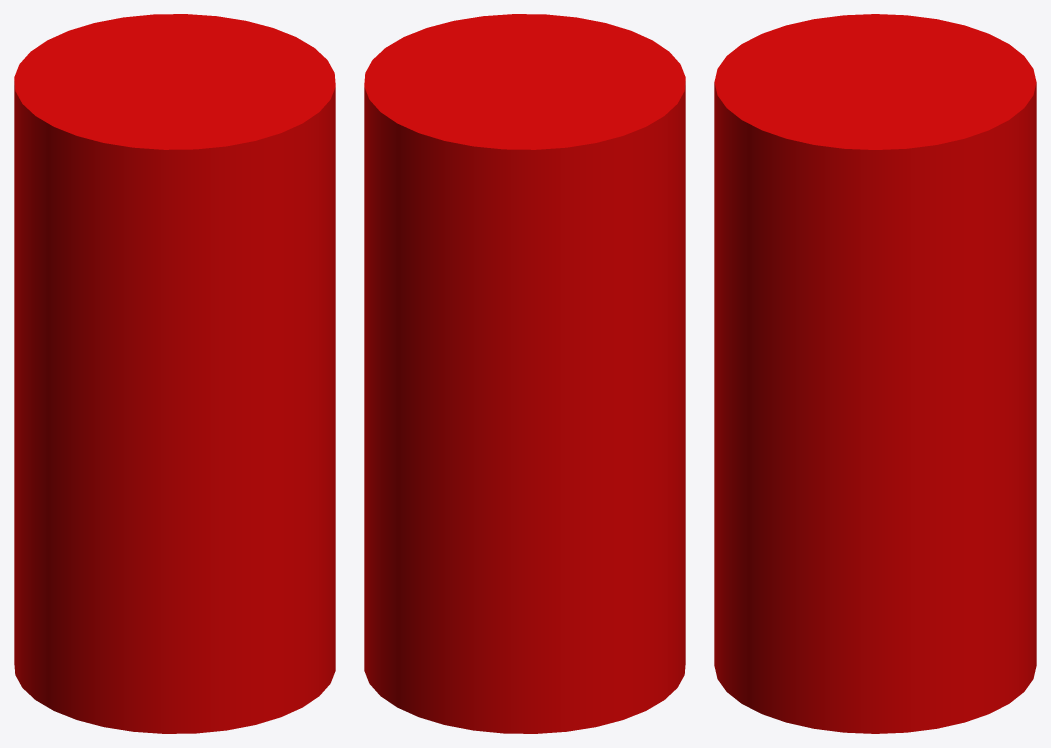
Rendered from EnemyGeneric.glb.
The picture shows the model from 3 angles, left to right: view 1: azimuth 30°, elevation 25°; view 2: azimuth 150°, elevation 25°; view 3: azimuth 270°, elevation 25°; orthographic projection.
Visible parts, largest first — view 1: Cylinder; view 2: Cylinder; view 3: Cylinder.
Boxes of the visible parts, x1=… form: Cylinder: x1=14, y1=14, x2=335, y2=733; Cylinder: x1=364, y1=14, x2=685, y2=733; Cylinder: x1=714, y1=14, x2=1036, y2=733.
Bounding box in the file's own units: 1 × 2 × 1.
